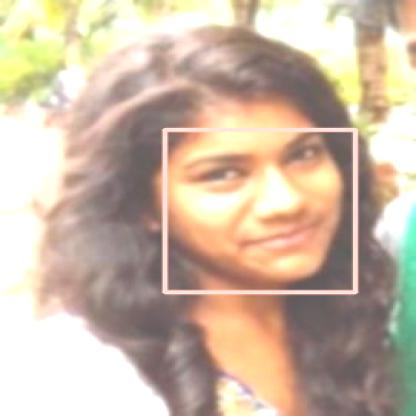without_mask: (164, 129, 355, 292)
